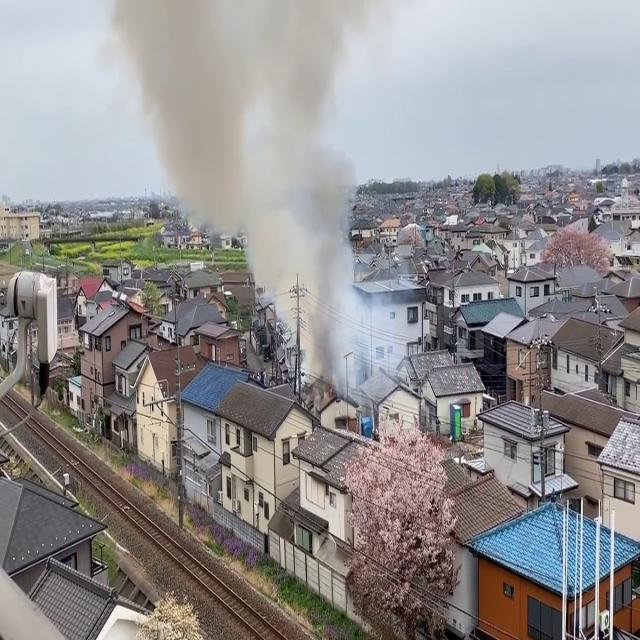Smoke: (162, 0, 379, 366)
